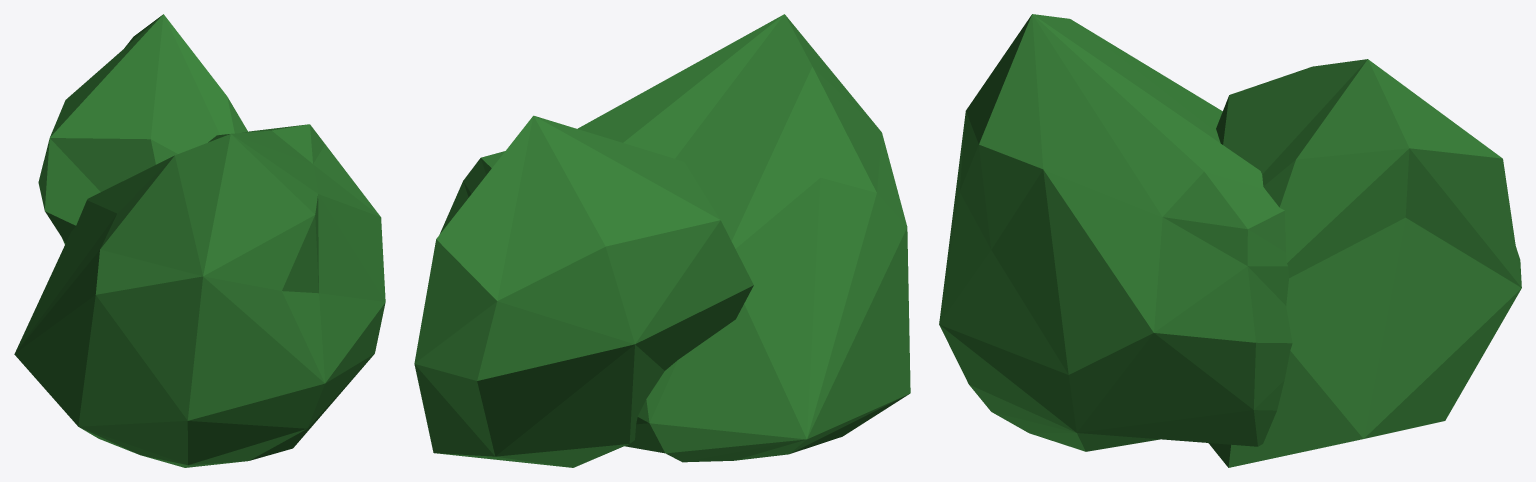
Rendered from shrub_2.obj.
The picture shows the model from 3 angles, left to right: view 1: azimuth 30°, elevation 25°; view 2: azimuth 150°, elevation 25°; view 3: azimuth 270°, elevation 25°; orthographic projection. The views are drawn at different scales.
Parts seen in each view (by area): view 1: shrub_2 shrubs; view 2: shrub_2 shrubs; view 3: shrub_2 shrubs.
Boxes of the visible parts, bbox=[...] form: shrub_2 shrubs: bbox=[14, 14, 385, 467]; shrub_2 shrubs: bbox=[414, 14, 910, 467]; shrub_2 shrubs: bbox=[939, 14, 1521, 467].
Size of the model in its own units: 9.08 by 8.78 by 11.52.
